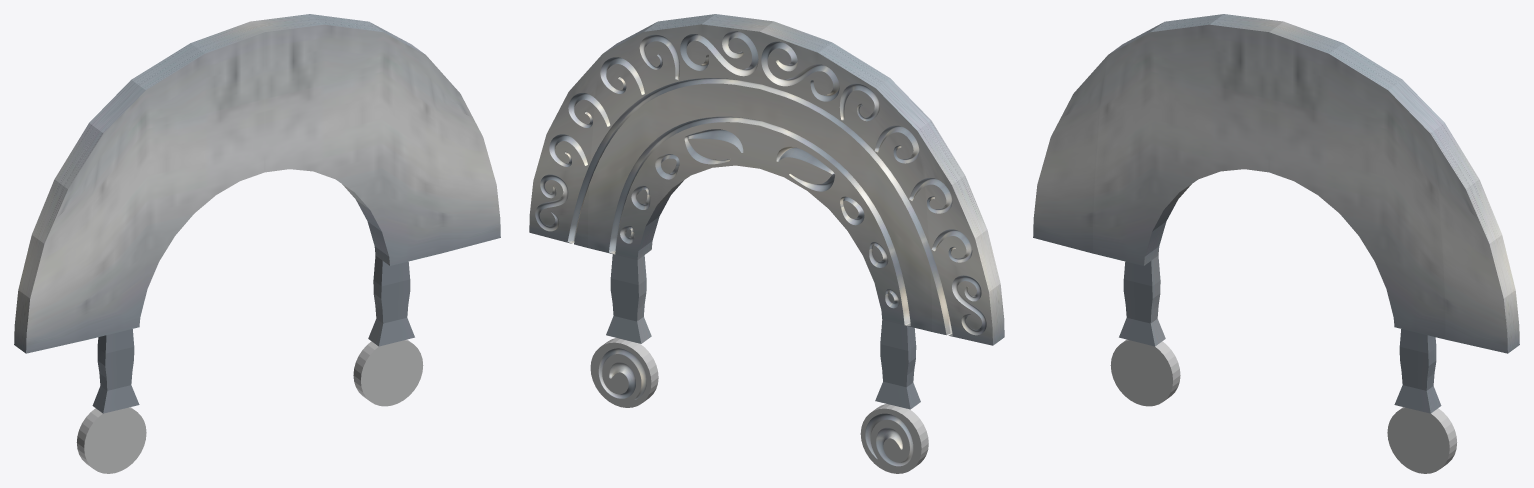
File: CoronaLunar.glb
The picture shows the model from 3 angles, left to right: view 1: azimuth 30°, elevation 25°; view 2: azimuth 150°, elevation 25°; view 3: azimuth 330°, elevation 25°; orthographic projection. The views are drawn at different scales.
Visible parts, largest first — view 1: luna; view 2: luna; view 3: luna.
Part boxes in pixels (box(x1,y1,x2,y2)): luna: box(14, 14, 500, 473); luna: box(529, 14, 1004, 473); luna: box(1033, 14, 1519, 473).
Size of the model in its own units: 0.3109 by 0.2599 by 0.0209.
2 materials, 1 textured.
